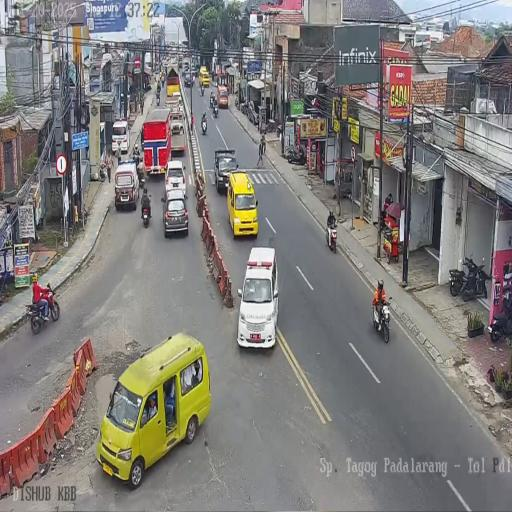3: (142, 108, 172, 177), (166, 65, 180, 98), (191, 55, 200, 74), (182, 56, 190, 74), (144, 52, 151, 72), (178, 56, 182, 68)
car: (95, 334, 210, 487), (236, 246, 278, 346), (227, 170, 258, 238), (114, 158, 140, 212), (162, 190, 189, 237), (214, 148, 238, 194), (165, 160, 186, 199), (111, 118, 131, 156), (247, 100, 259, 125), (217, 85, 229, 109), (199, 66, 210, 88), (184, 70, 194, 86)
truck: (27, 284, 60, 335), (462, 255, 490, 302), (488, 290, 512, 343), (372, 293, 392, 343), (326, 215, 338, 254), (286, 143, 306, 166), (140, 194, 152, 228), (136, 163, 145, 188), (132, 146, 140, 170), (240, 99, 249, 117), (201, 114, 208, 134), (116, 145, 122, 164), (276, 124, 282, 138), (213, 102, 218, 118), (140, 96, 144, 115), (210, 92, 214, 109), (156, 91, 160, 106), (234, 94, 238, 109), (161, 73, 165, 85), (201, 84, 204, 96)
